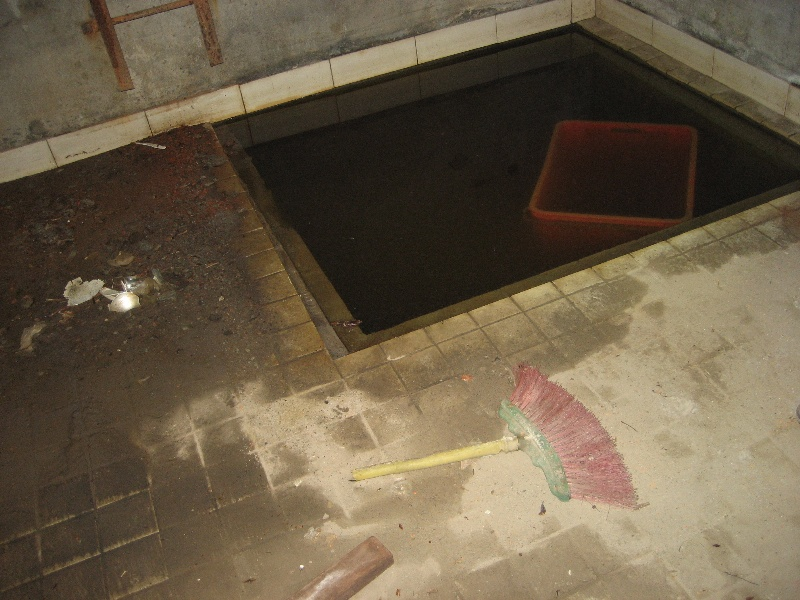box: (527, 118, 699, 228)
